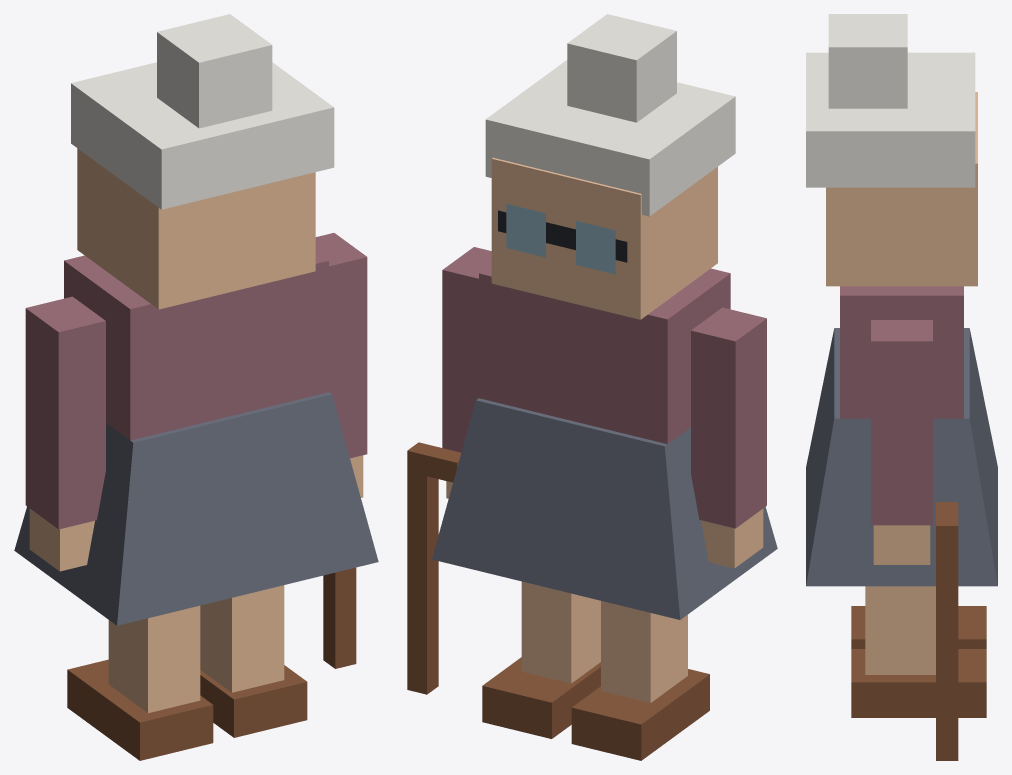
Rendered from H_OldLady.fbx.
The picture shows the model from 3 angles, left to right: view 1: azimuth 30°, elevation 25°; view 2: azimuth 150°, elevation 25°; view 3: azimuth 270°, elevation 25°; orthographic projection. The views are drawn at different scales.
Parts seen in each view (by area): view 1: H_OldLady; view 2: H_OldLady; view 3: H_OldLady.
Part boxes in pixels (<box>): H_OldLady: <box>14,14,378,760</box>; H_OldLady: <box>407,14,777,760</box>; H_OldLady: <box>806,14,997,760</box>.
Bounding box in the file's own units: 0.635 × 1.27 × 0.34.
